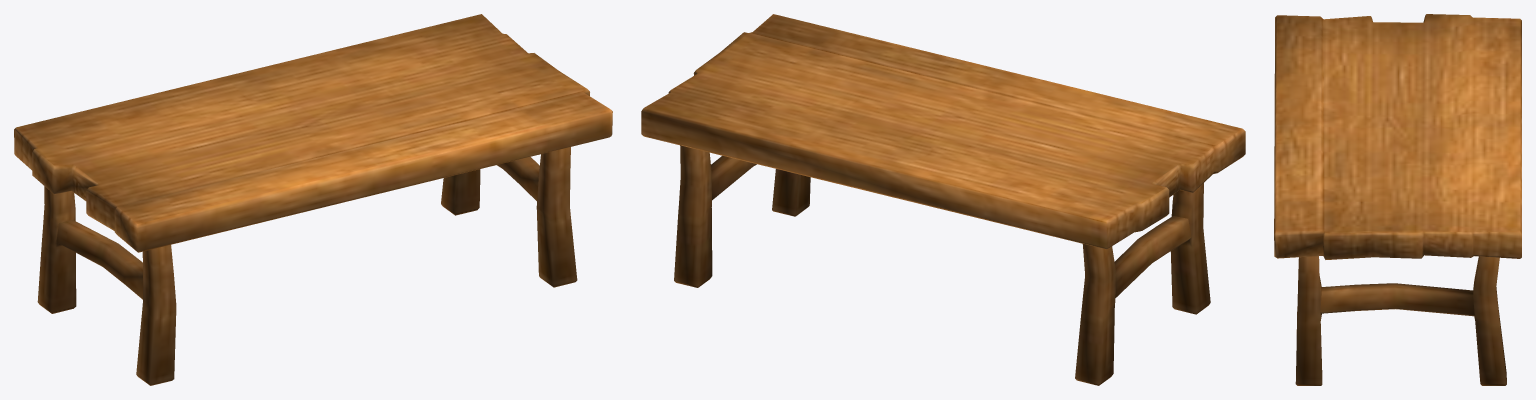
File: SM_Stylized_Table_A.glb
3 views of the same model, side by side, from view 1: azimuth 30°, elevation 25°; view 2: azimuth 150°, elevation 25°; view 3: azimuth 270°, elevation 25° (orthographic). The views are drawn at different scales.
Parts seen in each view (by area): view 1: SM_Stylized_Table_A; view 2: SM_Stylized_Table_A; view 3: SM_Stylized_Table_A.
Part boxes in pixels (x1,y1,x2,y2): SM_Stylized_Table_A: [14, 14, 612, 385]; SM_Stylized_Table_A: [641, 14, 1245, 385]; SM_Stylized_Table_A: [1274, 14, 1521, 385].
Bounding box in the file's own units: 2.68 × 0.9322 × 1.27.
Materials: 1 (1 with a texture image).
